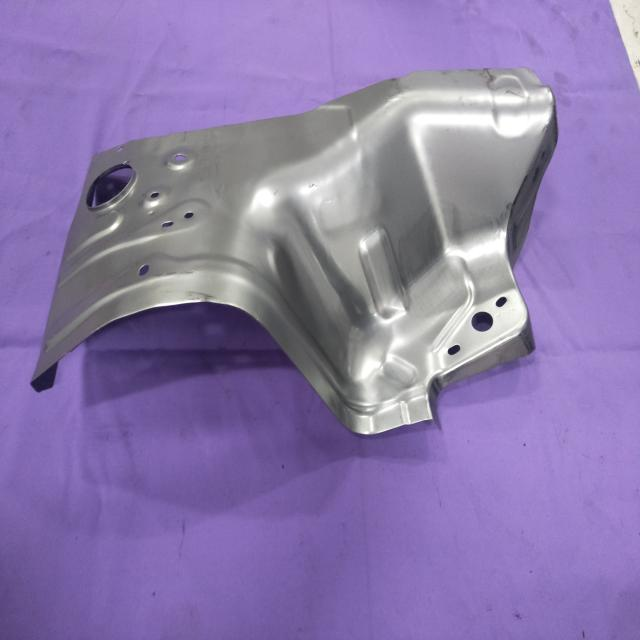rust: (384, 62, 556, 110), (165, 287, 257, 311)
